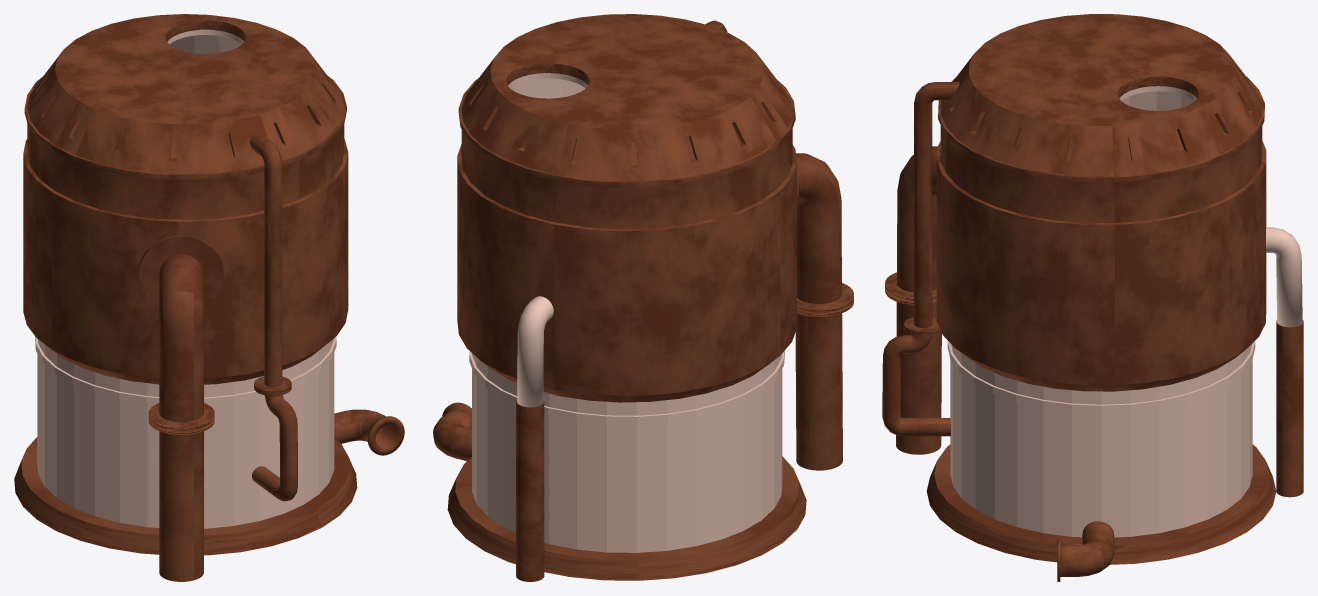
The model's file is Final_Fuel tank 1.glb.
3 views of the same model, side by side, from view 1: azimuth 30°, elevation 25°; view 2: azimuth 150°, elevation 25°; view 3: azimuth 270°, elevation 25° (orthographic). The views are drawn at different scales.
Parts seen in each view (by area): view 1: tank body, Base, Cylinder.003, Cylinder.008, Cylinder.004, Cylinder.009, Cylinder.002; view 2: tank body, Base, Cylinder.003, Cylinder.008, Cylinder.006, Cylinder.005, Cylinder.009, Cylinder.002; view 3: tank body, Base, Cylinder.008, Cylinder.004, Cylinder.003, Cylinder.006, Cylinder.005, Cylinder.009, Cylinder.002.
Boxes of the visible parts, x1,y1,x2,y2 form: tank body: (23,14,348,384); Base: (35,29,336,528); Cylinder.003: (139,235,223,581); Cylinder.008: (14,437,357,555); Cylinder.004: (250,132,297,501); Cylinder.009: (334,409,404,455); Cylinder.002: (148,403,214,434); tank body: (457,14,796,402); Base: (469,73,784,552); Cylinder.003: (795,153,842,470); Cylinder.008: (447,456,806,580); Cylinder.006: (516,399,544,581); Cylinder.005: (517,296,553,406); Cylinder.009: (433,402,471,460); Cylinder.002: (797,283,853,316); tank body: (936,14,1266,391); Base: (947,86,1255,537); Cylinder.008: (926,444,1276,564); Cylinder.004: (882,82,959,436); Cylinder.003: (896,146,941,454); Cylinder.006: (1276,320,1303,497); Cylinder.005: (1266,227,1302,327); Cylinder.009: (1057,521,1114,581); Cylinder.002: (885,272,936,304).
Size of the model in its own units: 5.14 by 5.88 by 5.33.
Materials: 5 (4 with a texture image).
